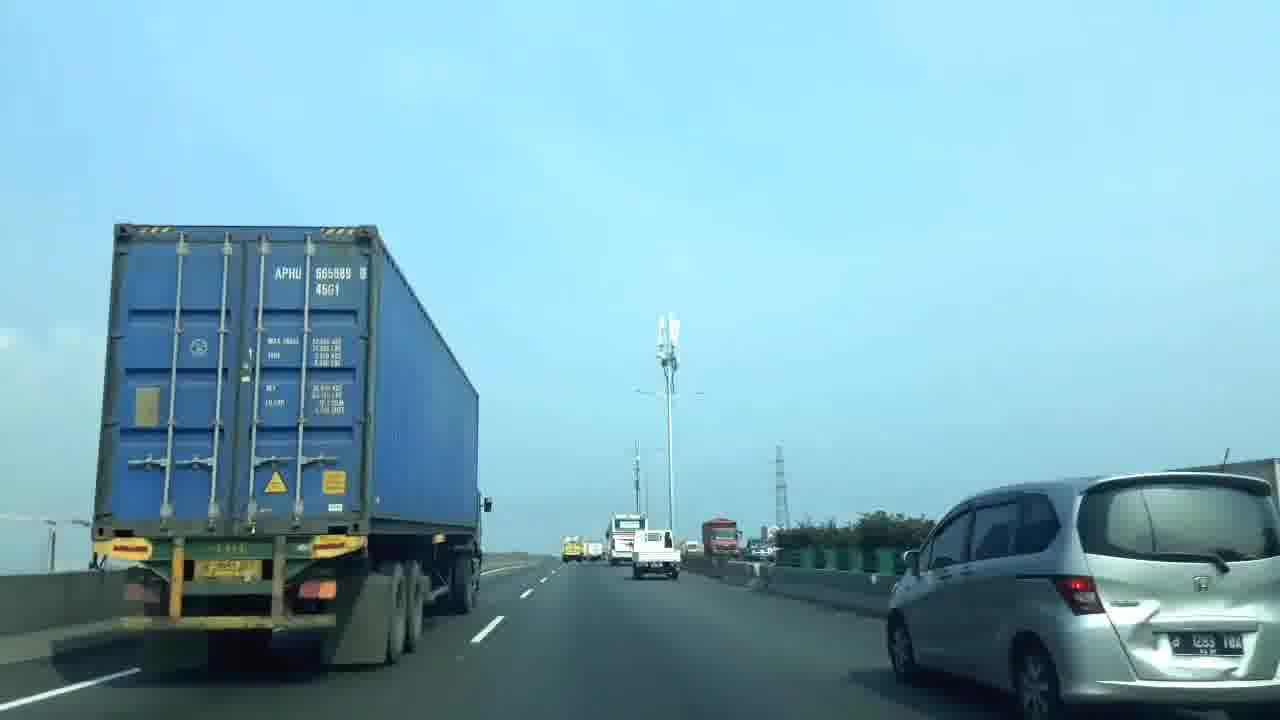plate_positive: (1169, 632, 1245, 657), (191, 559, 262, 583)
